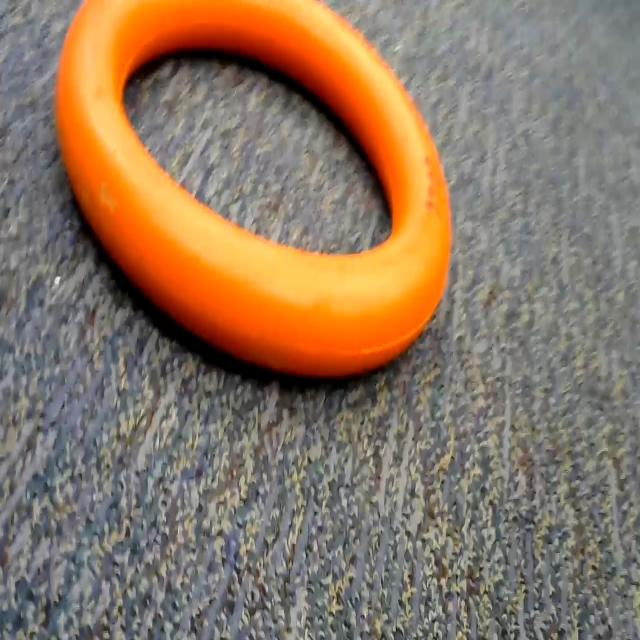note: (46, 0, 470, 408)
